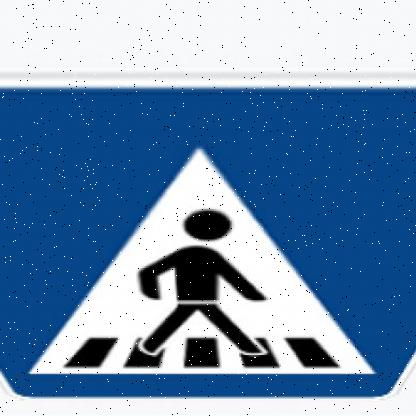Pedestrian Crossing: (1, 76, 416, 407)
